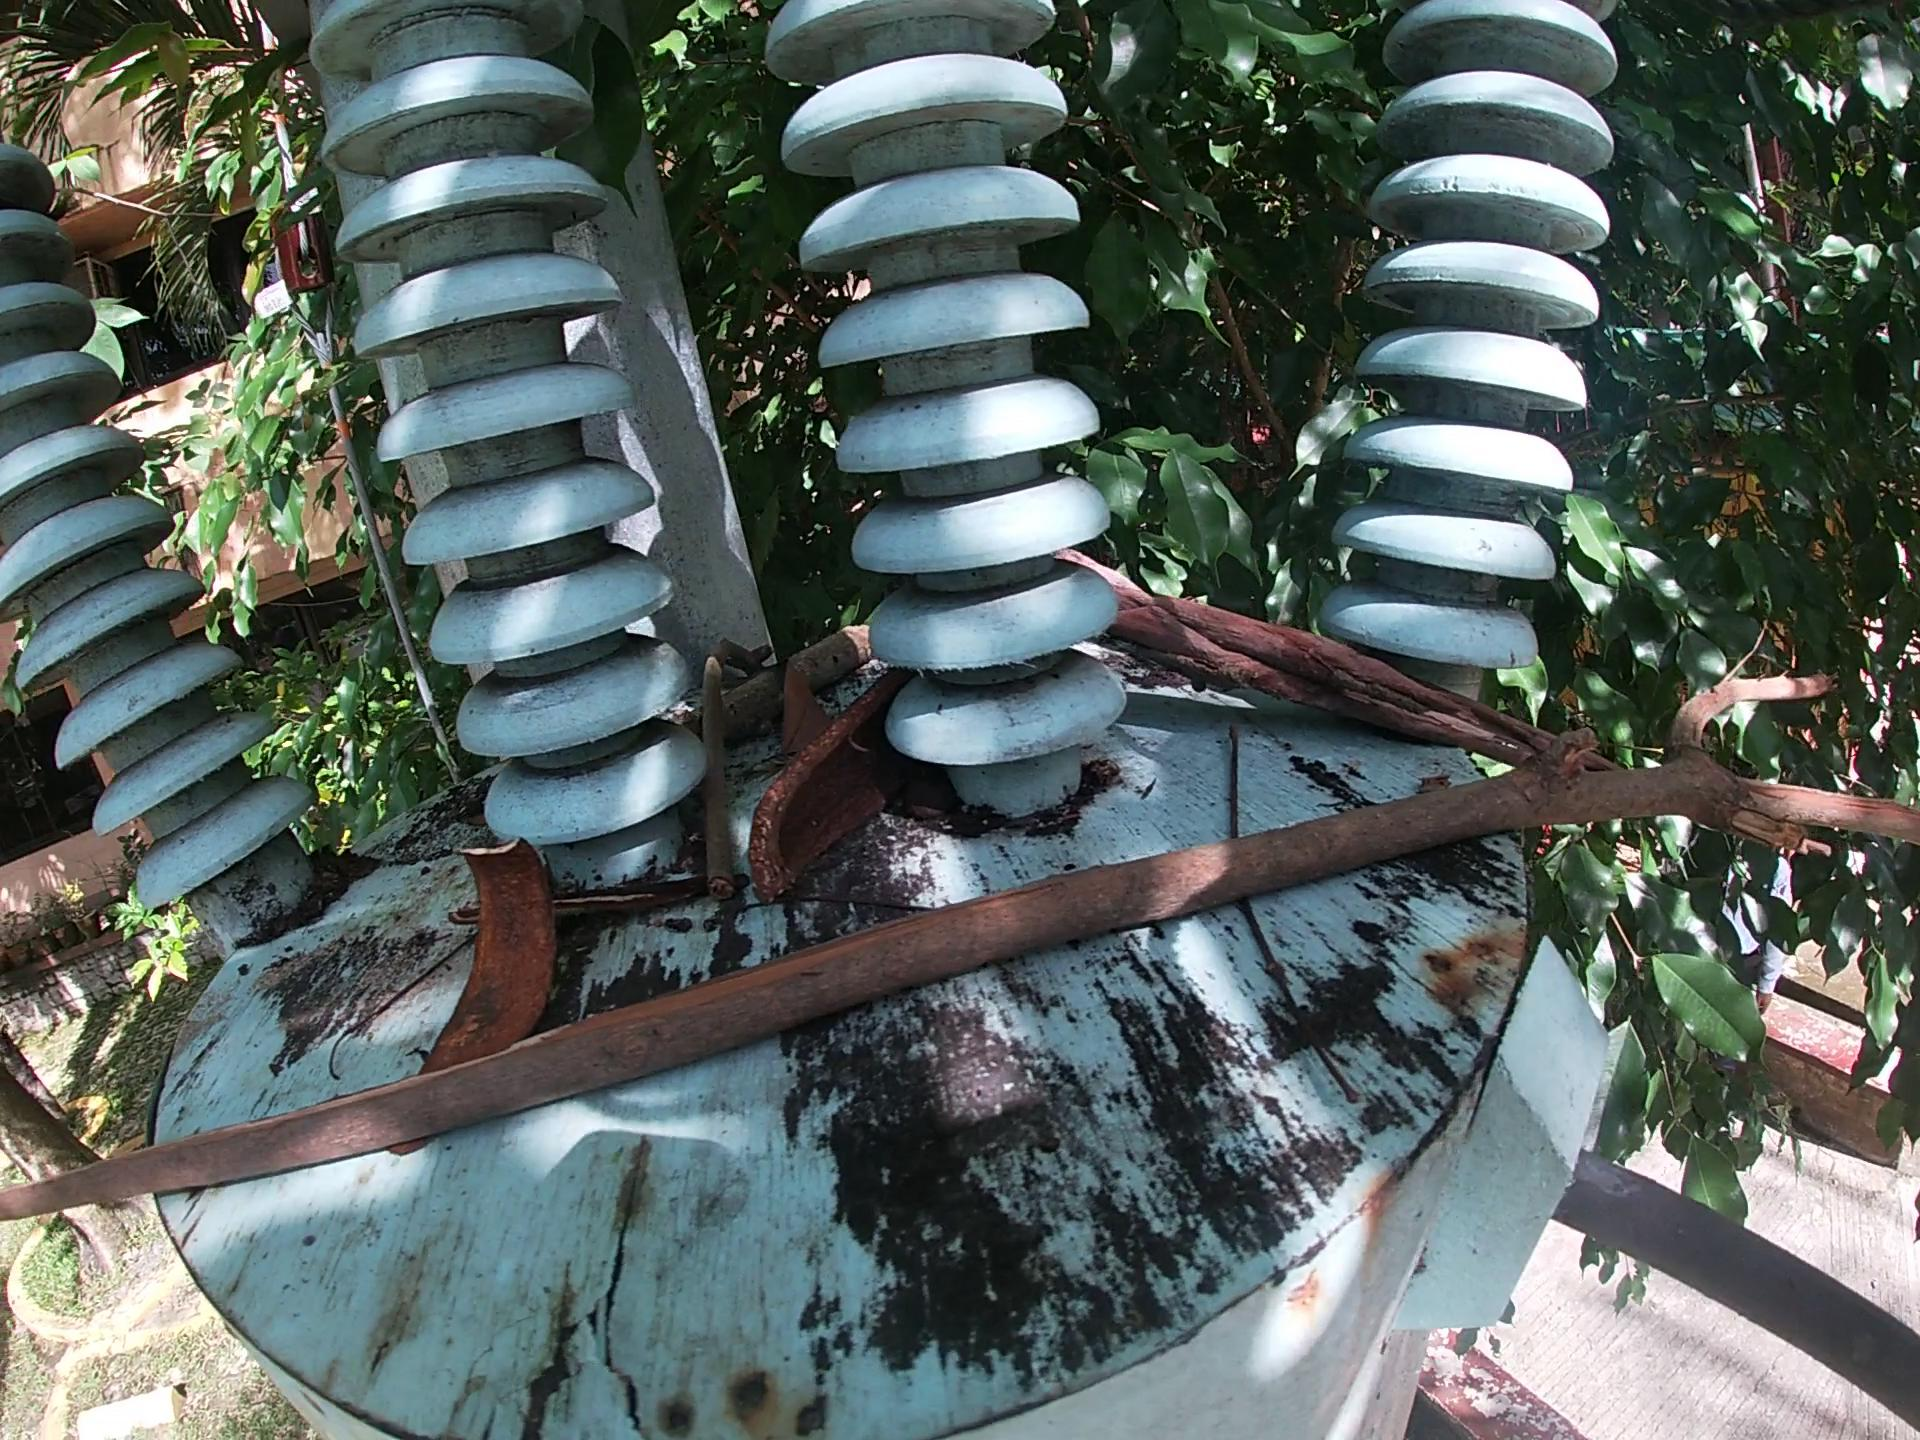leaf: (776, 656, 828, 746), (460, 803, 488, 833)
mahogany fruit: (748, 664, 912, 933), (399, 833, 565, 1078), (736, 892, 957, 920)
tree branch: (2, 664, 1899, 1299), (1060, 543, 1553, 765), (1240, 903, 1377, 1145), (667, 629, 874, 768), (319, 930, 475, 1101), (695, 632, 776, 898), (553, 876, 701, 936), (1222, 718, 1252, 839)
